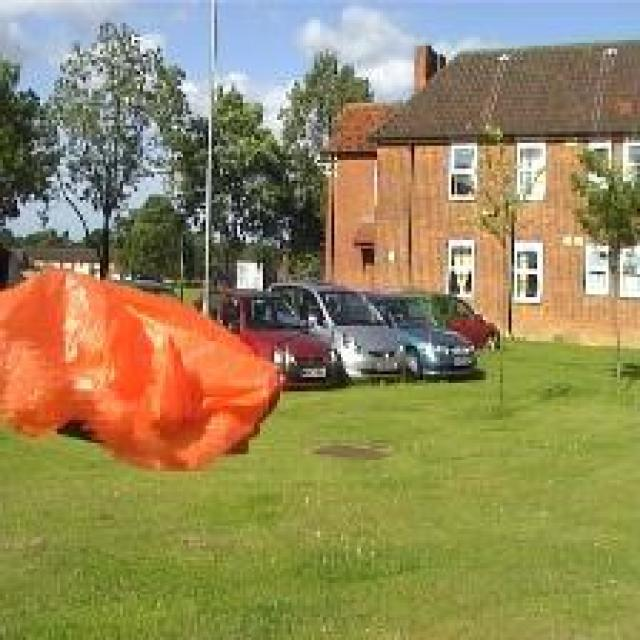other: (0, 237, 289, 486)
